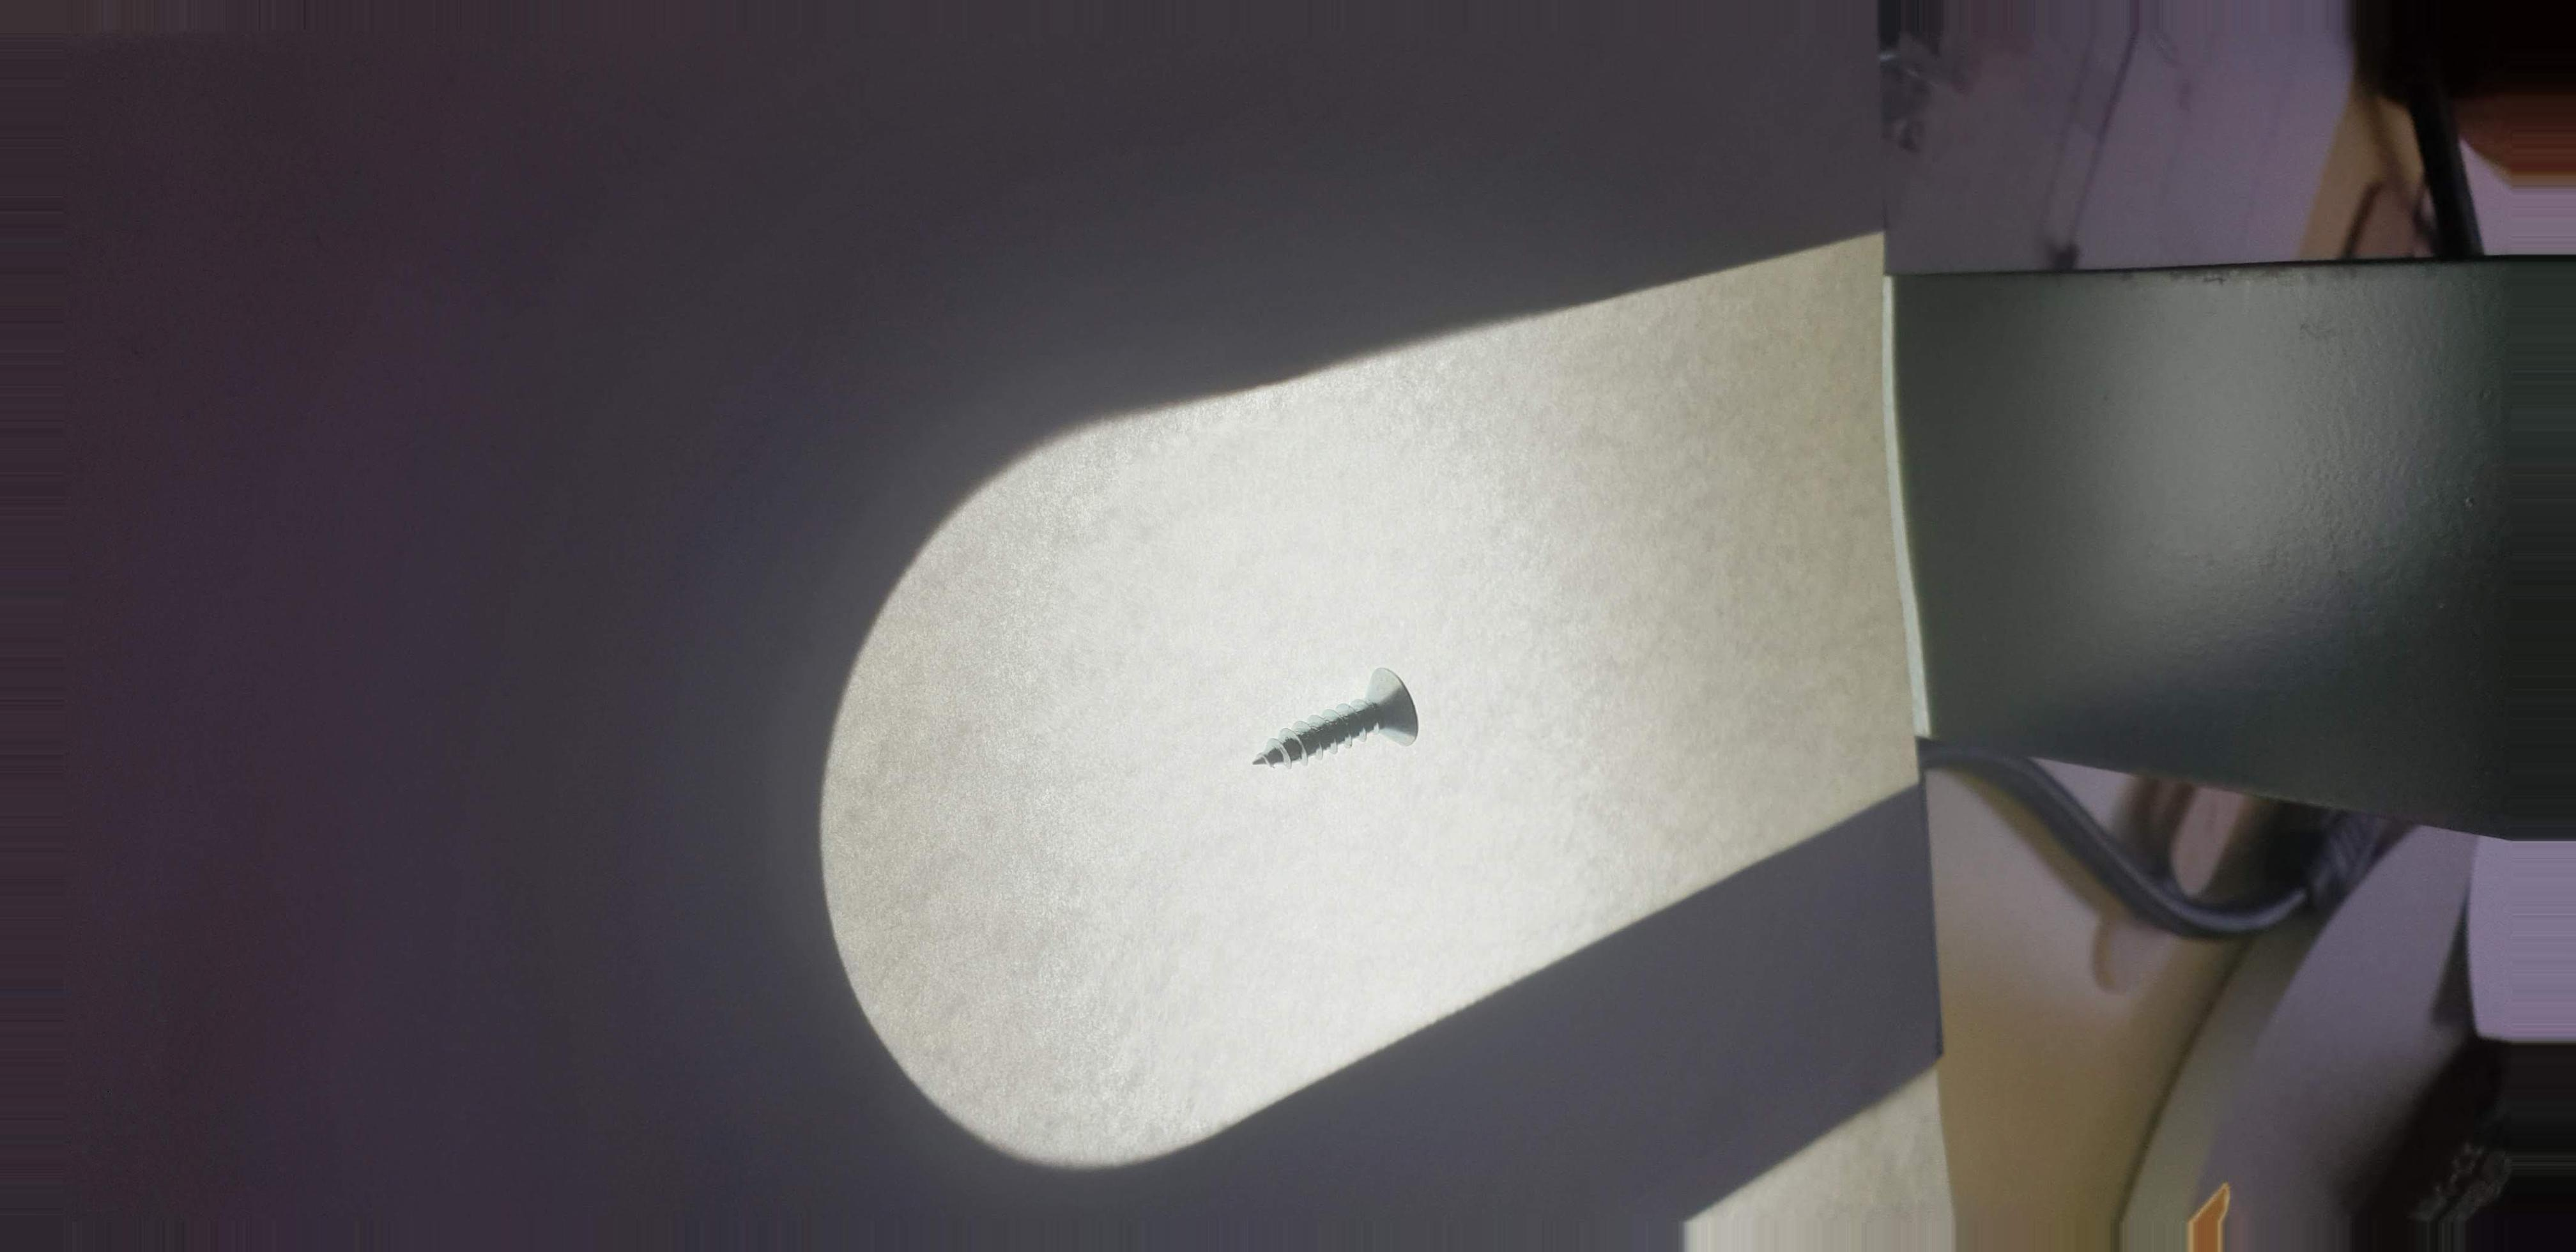S003: (1232, 657, 1433, 797)
